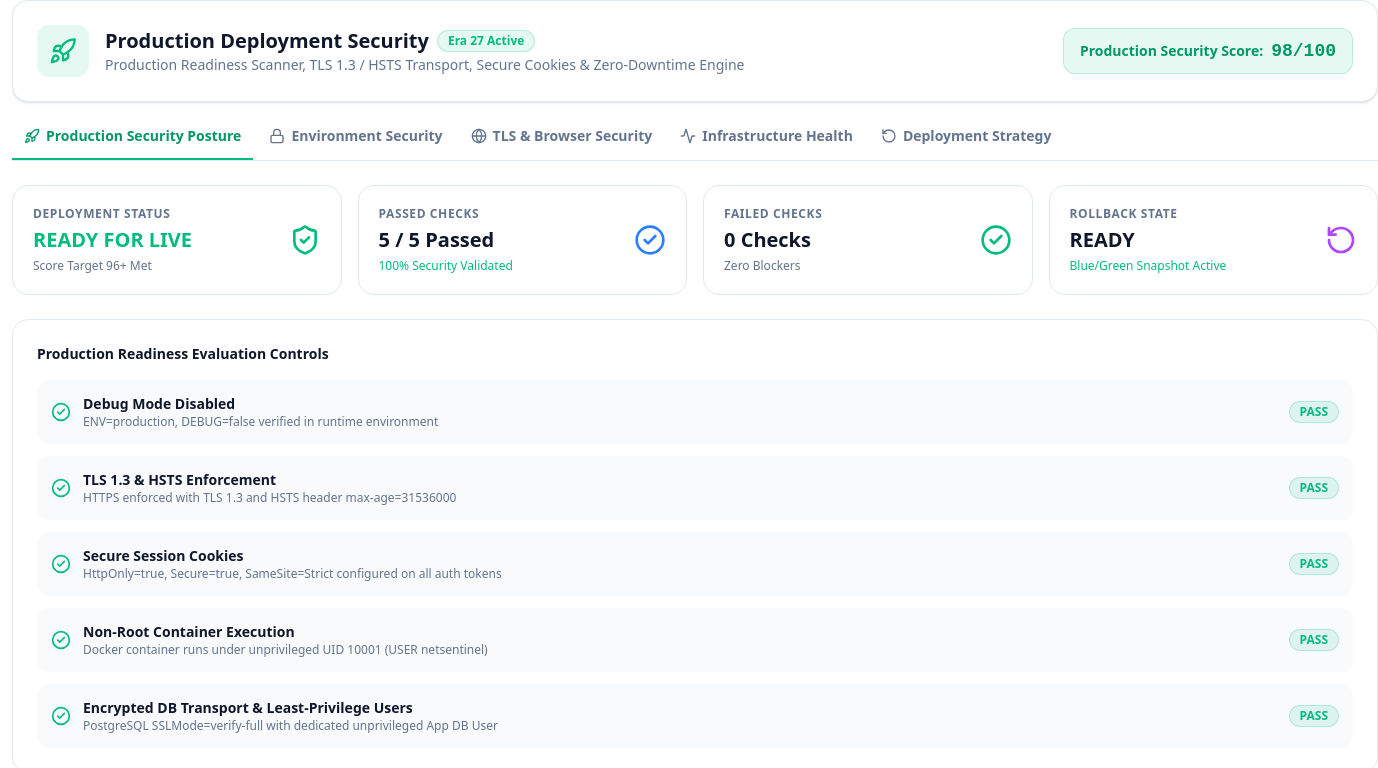
it: ProductionDeploymentSecurityDashboard › clicking TLS & Browser Security tab shows TLS 1.3 info
Click the button "TLS & Browser Security".
click(561, 143)  # box [459,126,664,160]
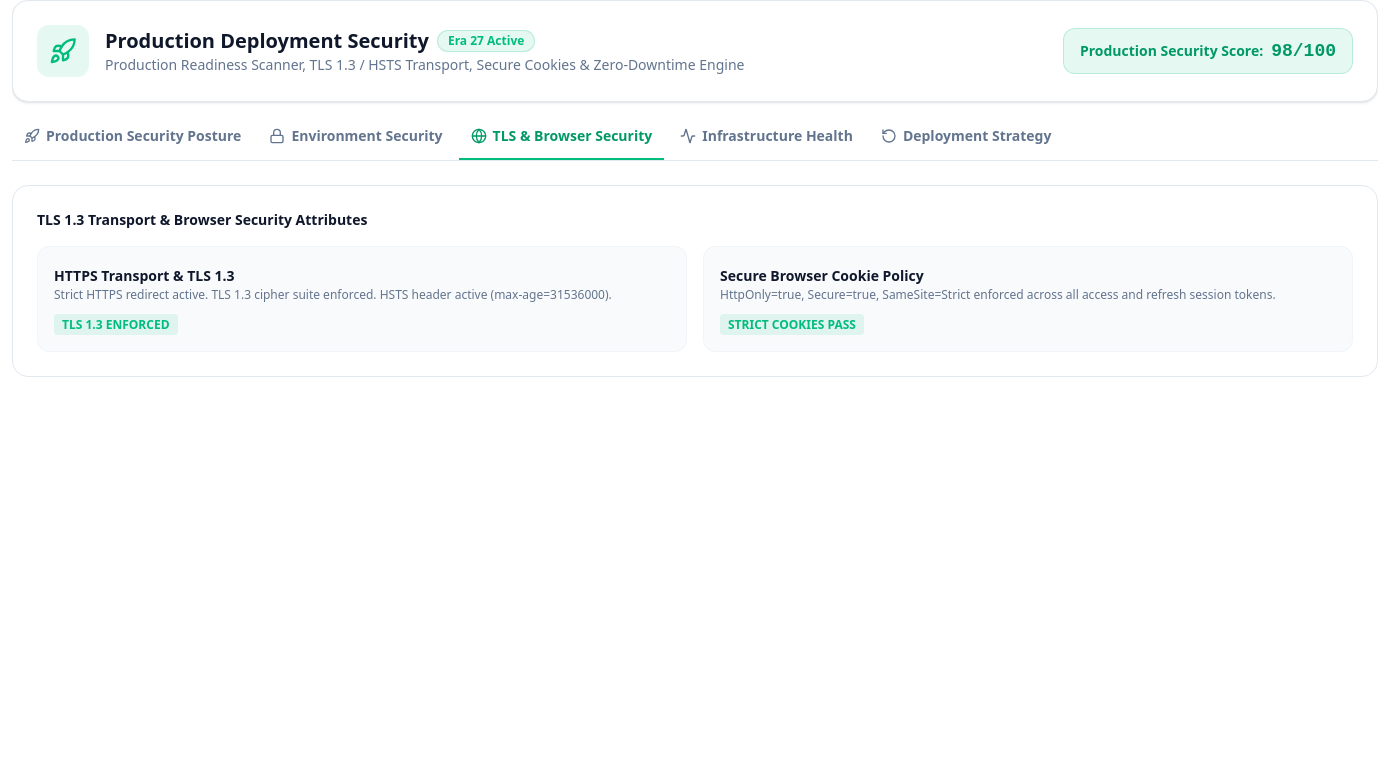
Expected: the text "HTTPS Transport & TLS 1.3" is shown, [54,266,235,285]
Expected: the text "TLS 1.3 ENFORCED" is shown, [54,314,178,335]
